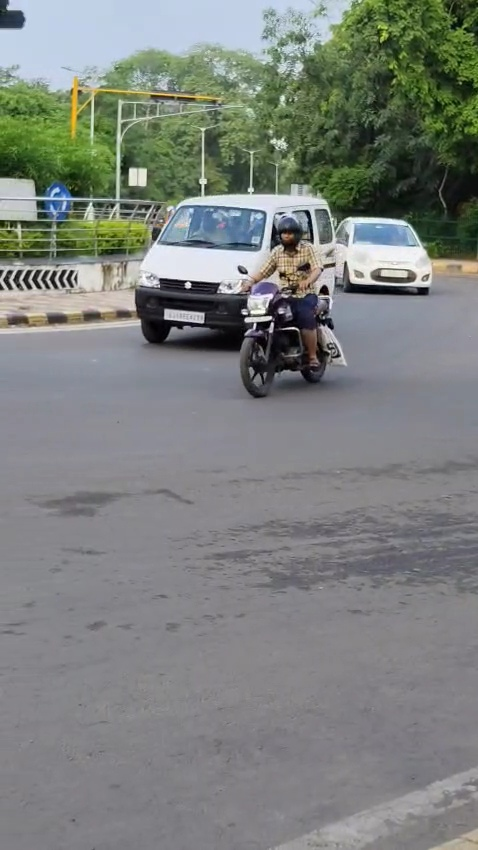BikeWithRider: (203, 205, 362, 396)
Helmet: (274, 214, 303, 252)
